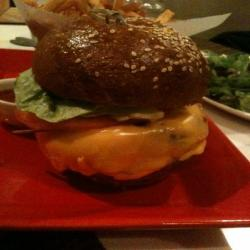burger: (16, 11, 218, 199)
salad: (197, 50, 250, 123)
